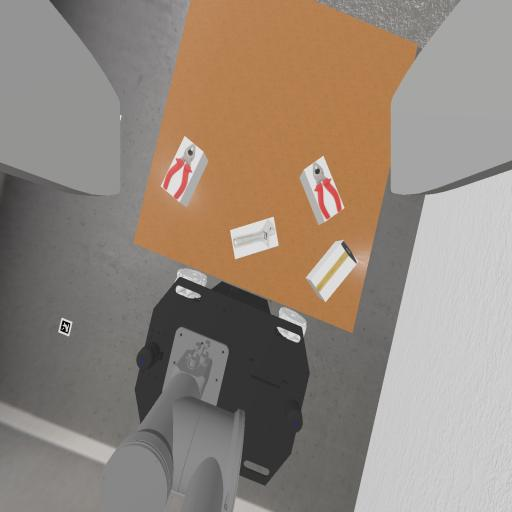hammer: (317, 242, 357, 291)
pliers: (162, 144, 195, 199), (313, 163, 342, 219)
wrench: (233, 221, 275, 247)
